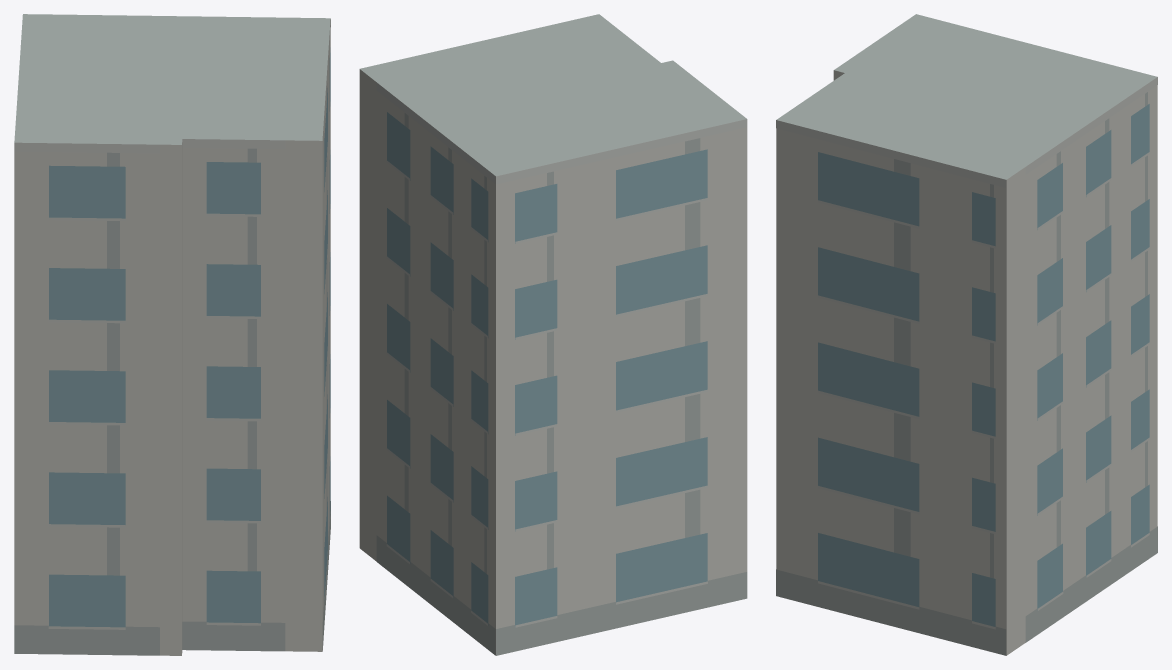
File: survey-upis-32795100.glb
The picture shows the model from 3 angles, left to right: view 1: azimuth 30°, elevation 25°; view 2: azimuth 150°, elevation 25°; view 3: azimuth 270°, elevation 25°; orthographic projection. The views are drawn at different scales.
Parts seen in each view (by area): view 1: survey-upis-32795100.tmp; view 2: survey-upis-32795100.tmp; view 3: survey-upis-32795100.tmp.
Boxes of the visible parts, <box> form: survey-upis-32795100.tmp: <box>14,14,330,655</box>; survey-upis-32795100.tmp: <box>359,14,747,655</box>; survey-upis-32795100.tmp: <box>776,14,1157,655</box>.
Size of the model in its own units: 10.54 by 14.1 by 10.25.
